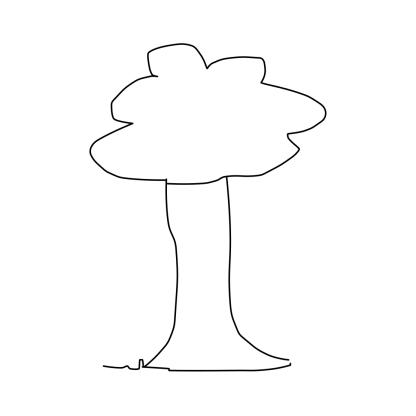crown_cloud: (89, 44, 326, 184)
root_none: (124, 341, 289, 408)
trunk_straight: (165, 197, 246, 337)
